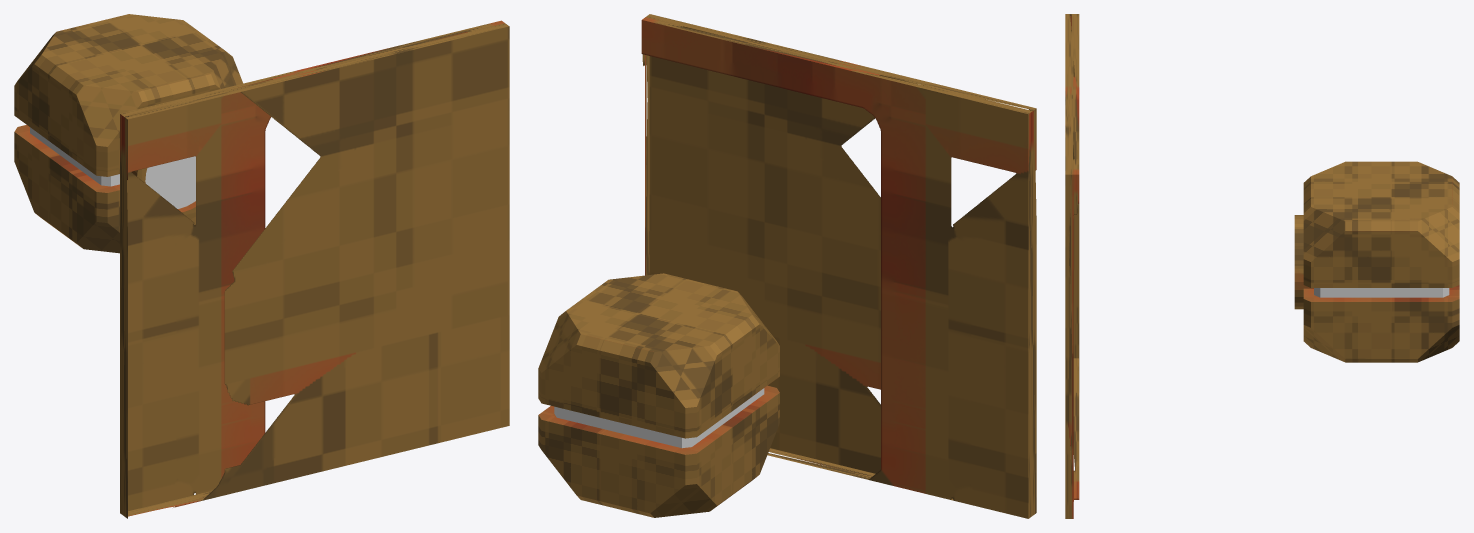
Rendered from alienBox Test.fbx.
3 renders of one model, left to right at view 1: azimuth 30°, elevation 25°; view 2: azimuth 150°, elevation 25°; view 3: azimuth 270°, elevation 25°, orthographic. The views are drawn at different scales.
Parts seen in each view (by area): view 1: Cube, body, eye; view 2: Cube, body, eye; view 3: body, Cube, eye.
Boxes of the visible parts, x1,y1,x2,y2 form: Cube: [120, 20, 509, 518]; body: [14, 14, 243, 253]; eye: [30, 127, 195, 208]; Cube: [641, 14, 1036, 518]; body: [538, 273, 779, 517]; eye: [554, 388, 764, 448]; body: [1294, 161, 1459, 362]; Cube: [1065, 14, 1079, 518]; eye: [1314, 288, 1449, 297].
Size of what is drawn, in the model's own units: 5536 by 5536 by 5740.
Materials: 2 (1 with a texture image).
